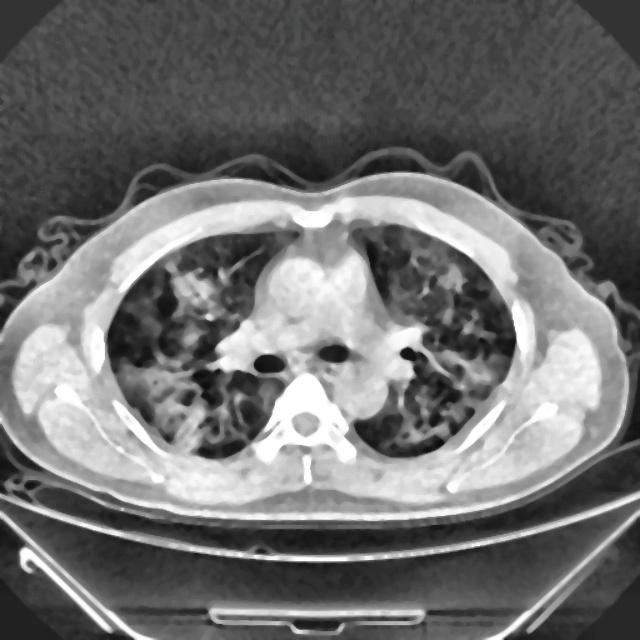covid: (1, 153, 632, 528)
